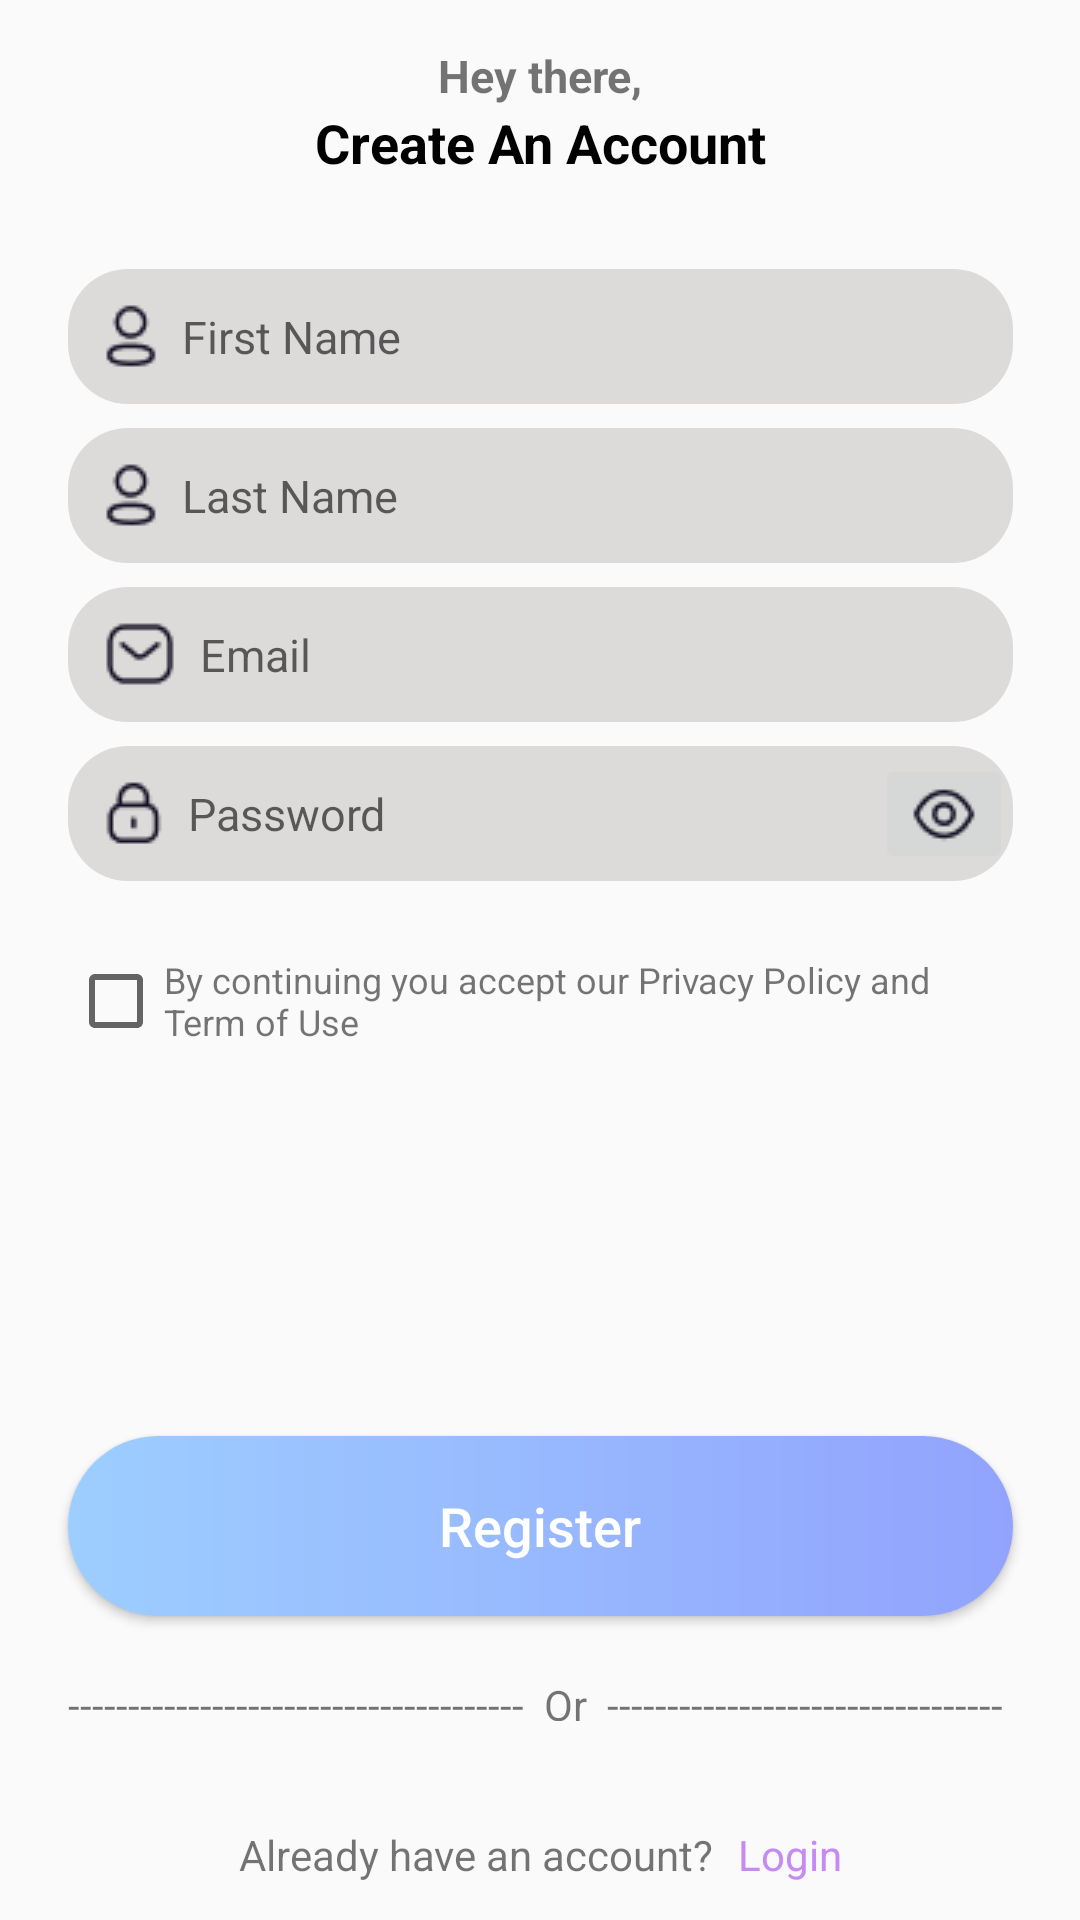

Named icons in this screenshot (1080 x 1920) and their bounding boxes, (left=x1, top=y1, right=x2, bottom=y2):
show: (left=913, top=789, right=975, bottom=841)
